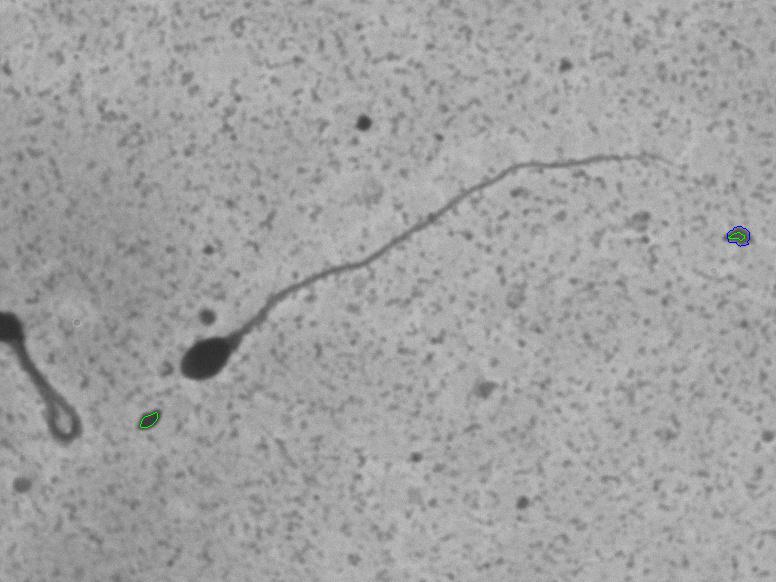Normal: (166, 125, 661, 435)
